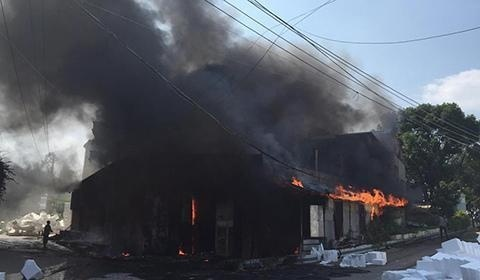fire: (331, 183, 403, 214), (190, 198, 198, 222), (289, 176, 304, 187)
